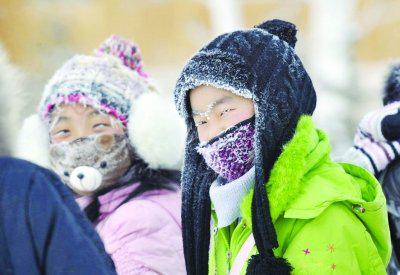OK: (48, 101, 135, 188)
WRONG: (180, 89, 272, 181)
